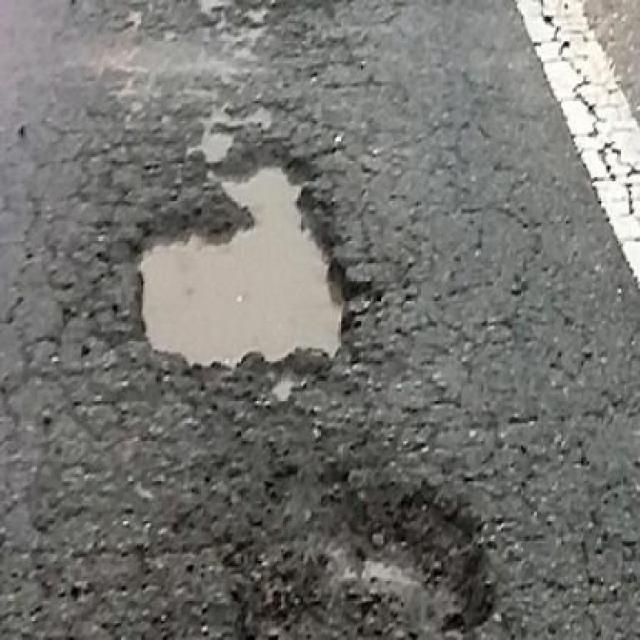pothole: (124, 132, 360, 372), (258, 460, 501, 639)
